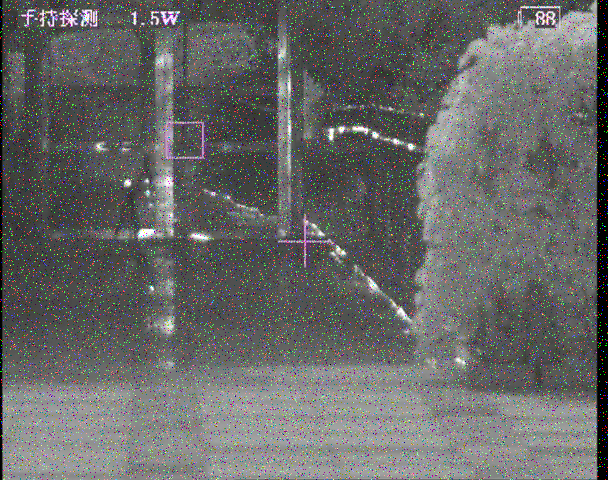my: (123, 177, 133, 188)
